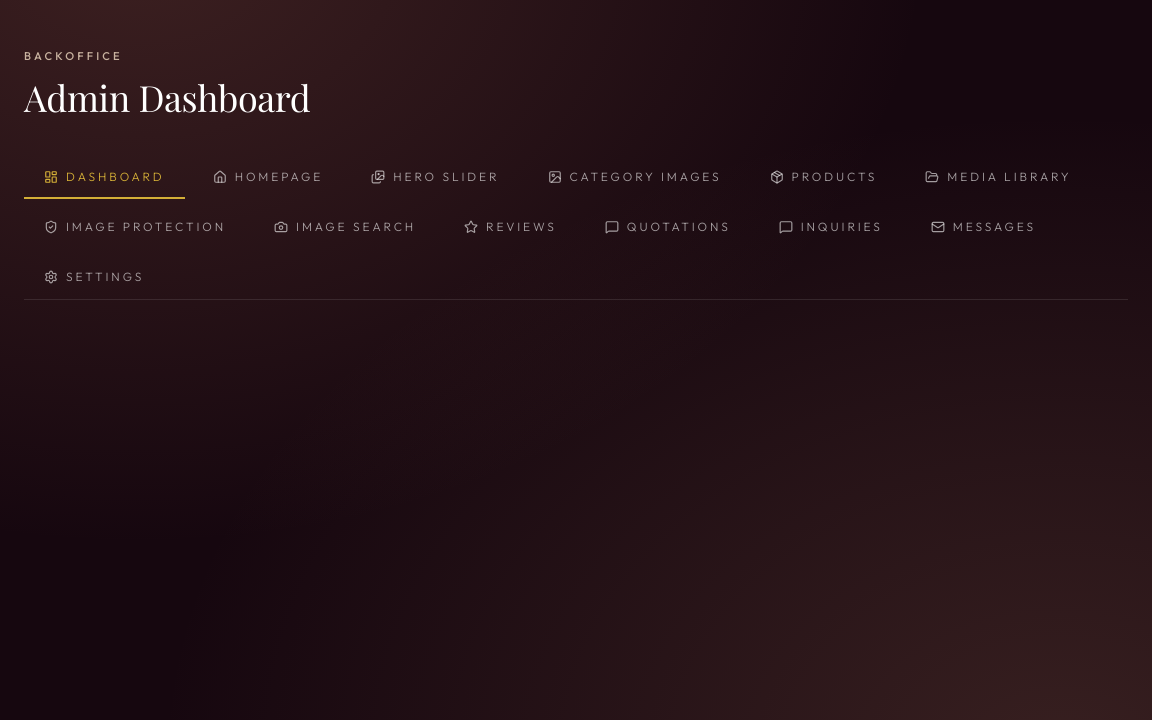
Scenario: Admin Enquiries — deletion controls › Cancel closes the modal without calling any delete endpoint
The image size is (1152, 720).
Click the button with test id "admin-tab-inquiries" at (831, 228), box [759,207,903,249]
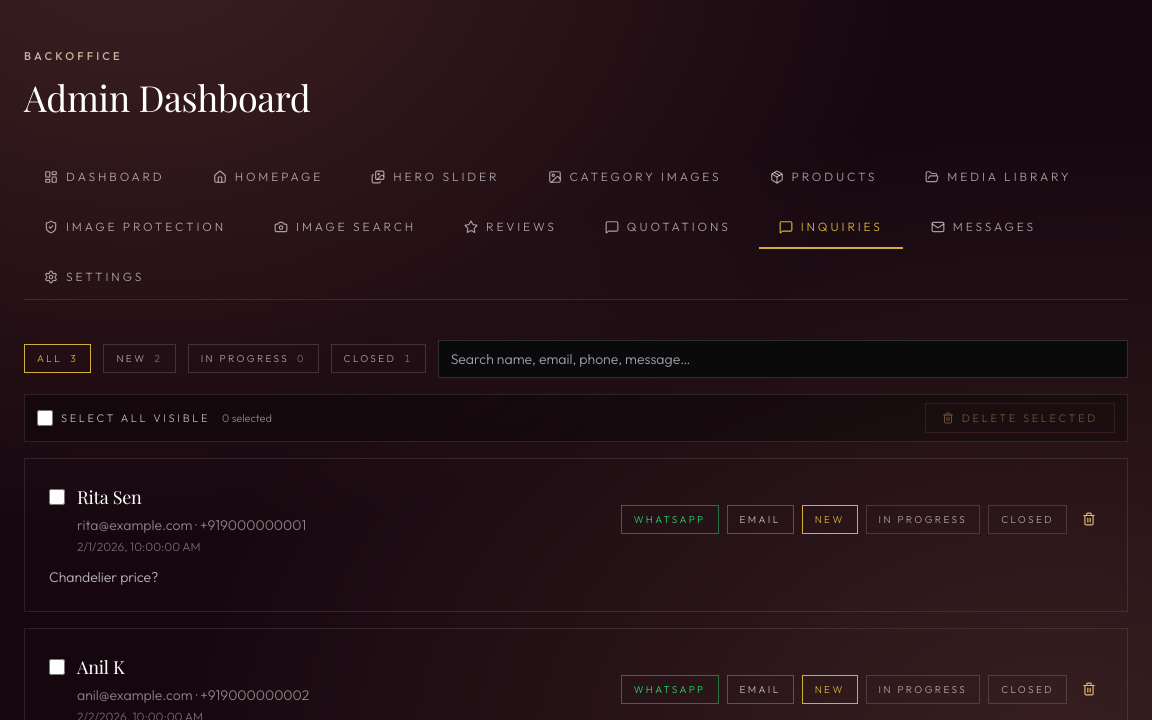
Check: the element with test id "inq-inq-1" is shown, box [24,458,1128,612]
Click the button with test id "inq-delete-inq-1" at (1089, 519), box [1075,505,1103,533]
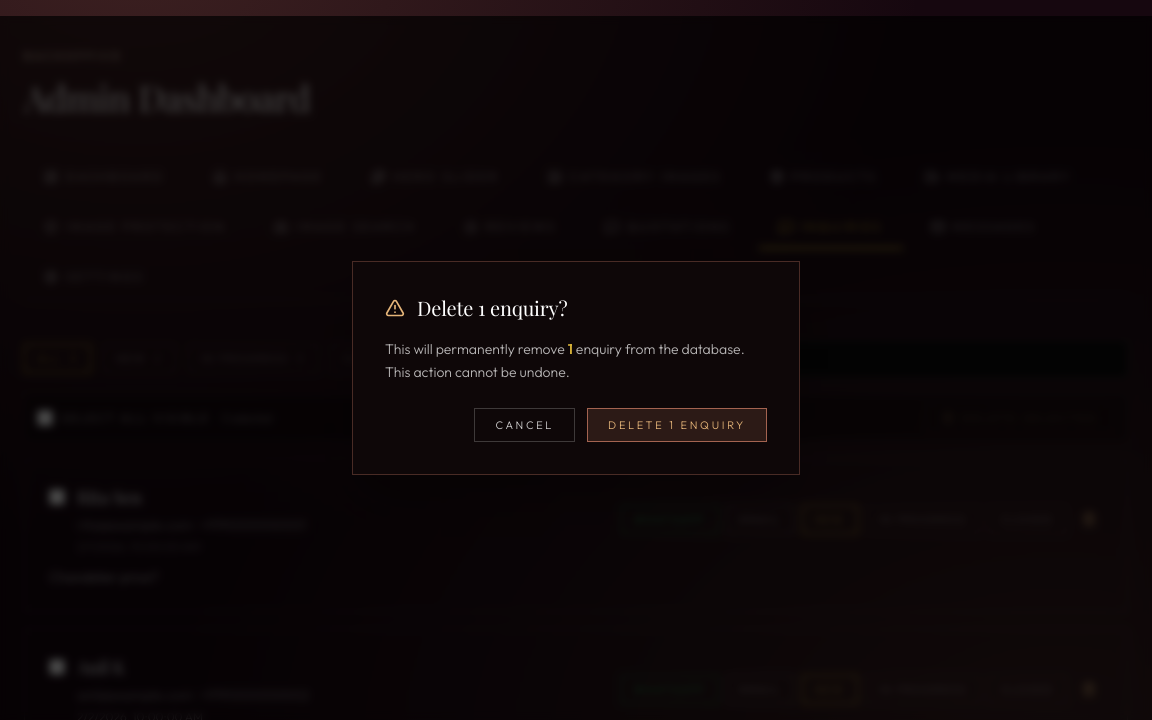
Check: the dialog with test id "inq-delete-modal" is shown
Click the button with test id "inq-delete-cancel" at (525, 425), box [474,408,575,442]
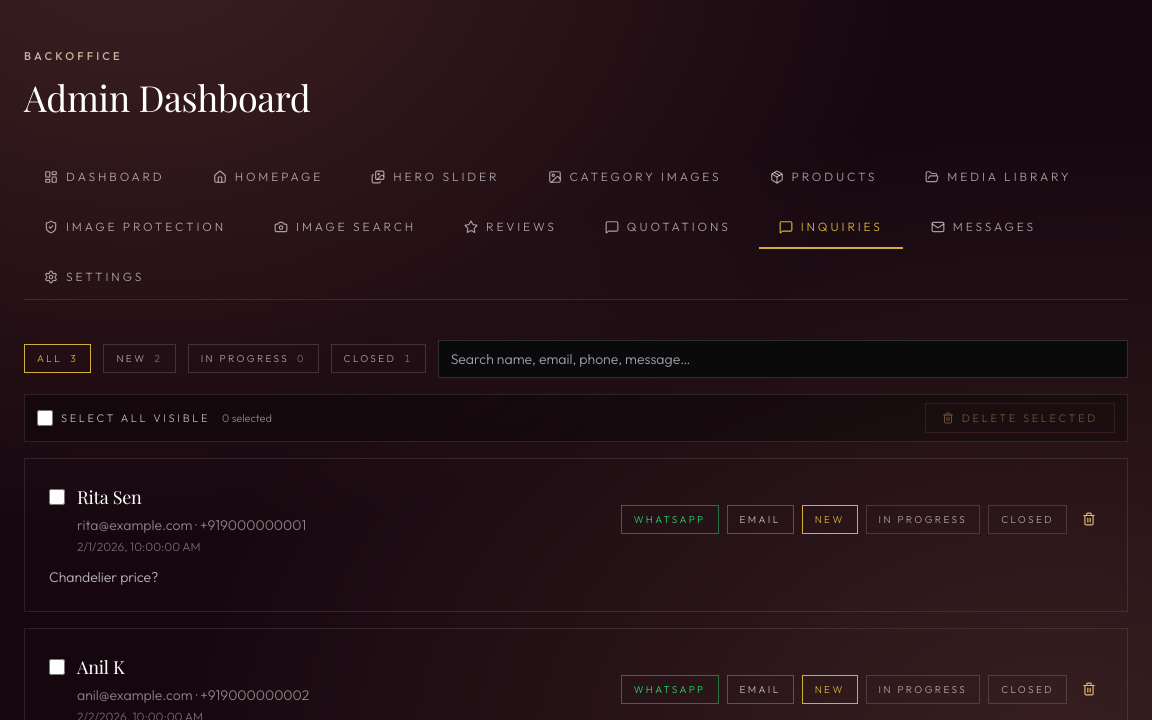
Check: the dialog with test id "inq-delete-modal" is gone
